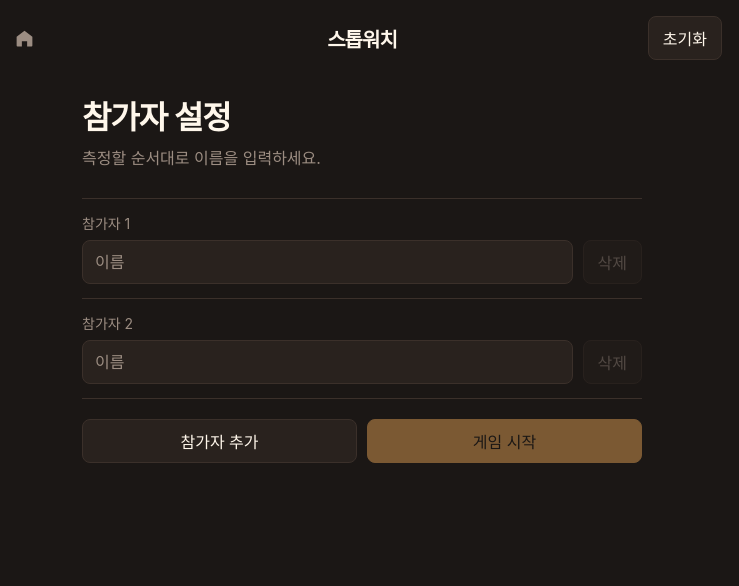
Test: StopwatchPage › 참가자 행을 추가하고 삭제한다
This screenshot has width=739, height=586.
Click the button "참가자 추가". click: (220,441)
box: left=82, top=419, right=357, bottom=463
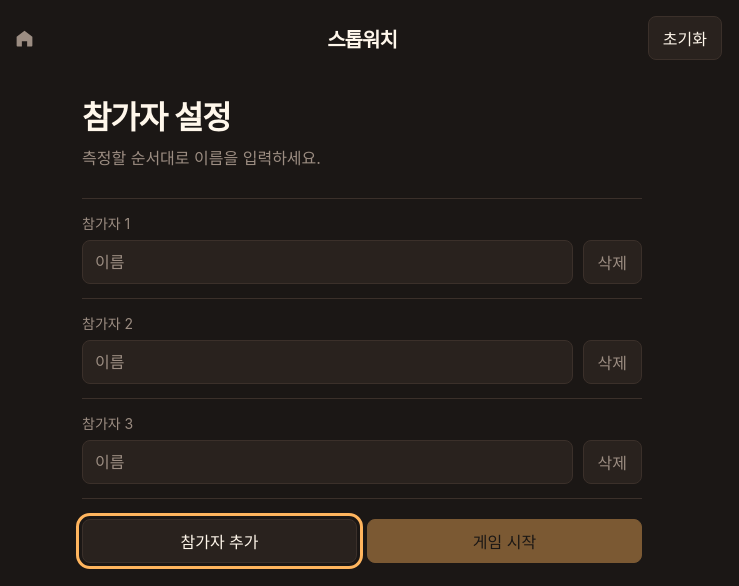
Expected: the number of fields is 3, left=82, top=240, right=572, bottom=284; left=82, top=340, right=572, bottom=384; left=82, top=440, right=572, bottom=484
Click the button with aria-label "참가자 2 삭제". click: (612,362)
box: left=582, top=340, right=642, bottom=384
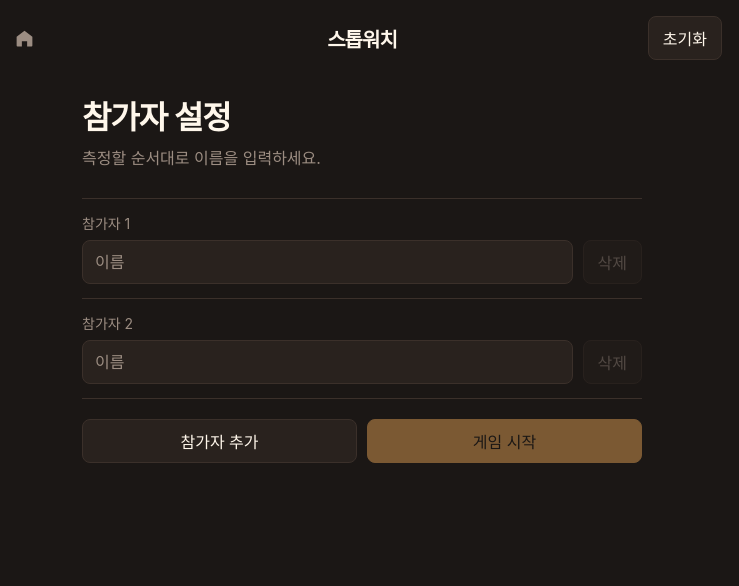
Expected: the number of fields is 2, left=82, top=240, right=572, bottom=284; left=82, top=340, right=572, bottom=384
